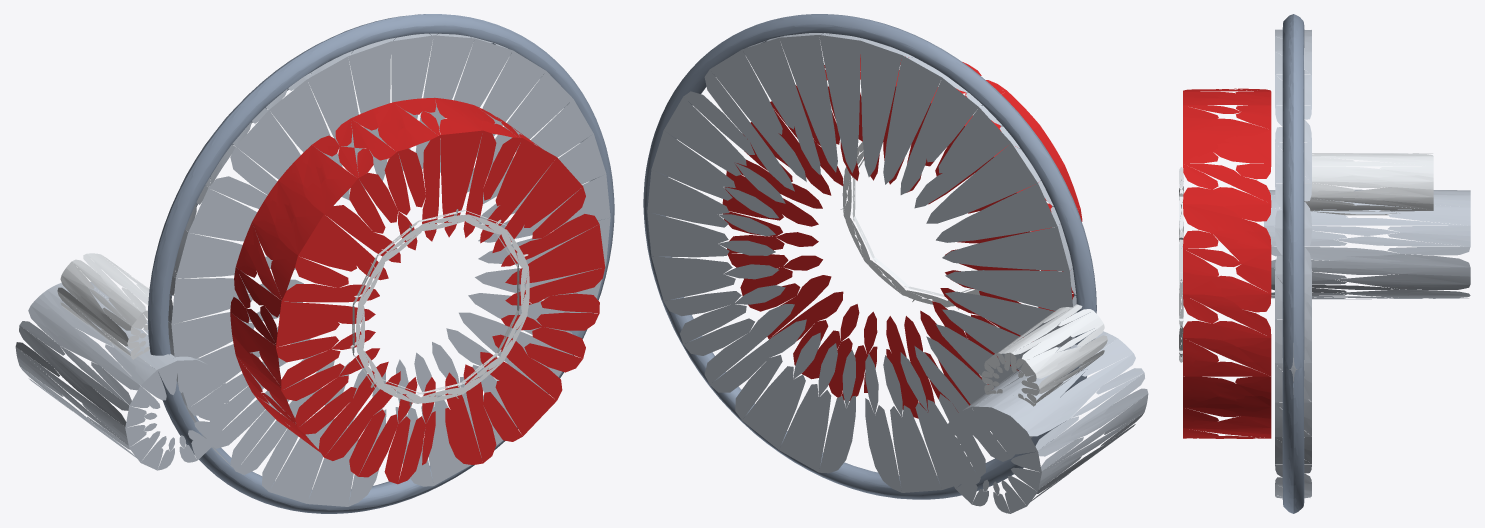
The model's file is racing_clutch_flywheel.glb.
3 renders of one model, left to right at view 1: azimuth 30°, elevation 25°; view 2: azimuth 150°, elevation 25°; view 3: azimuth 270°, elevation 25°, orthographic. The views are drawn at different scales.
Visible parts, largest first — view 1: Racing_Clutch_Flywheel_Assembly; view 2: Racing_Clutch_Flywheel_Assembly; view 3: Racing_Clutch_Flywheel_Assembly.
Part boxes in pixels (box(x1,y1,x2,y2)): Racing_Clutch_Flywheel_Assembly: box(15, 14, 614, 513); Racing_Clutch_Flywheel_Assembly: box(643, 14, 1148, 513); Racing_Clutch_Flywheel_Assembly: box(1179, 14, 1470, 513).
Bounding box in the file's own units: 0.3675 × 0.339 × 0.198.
